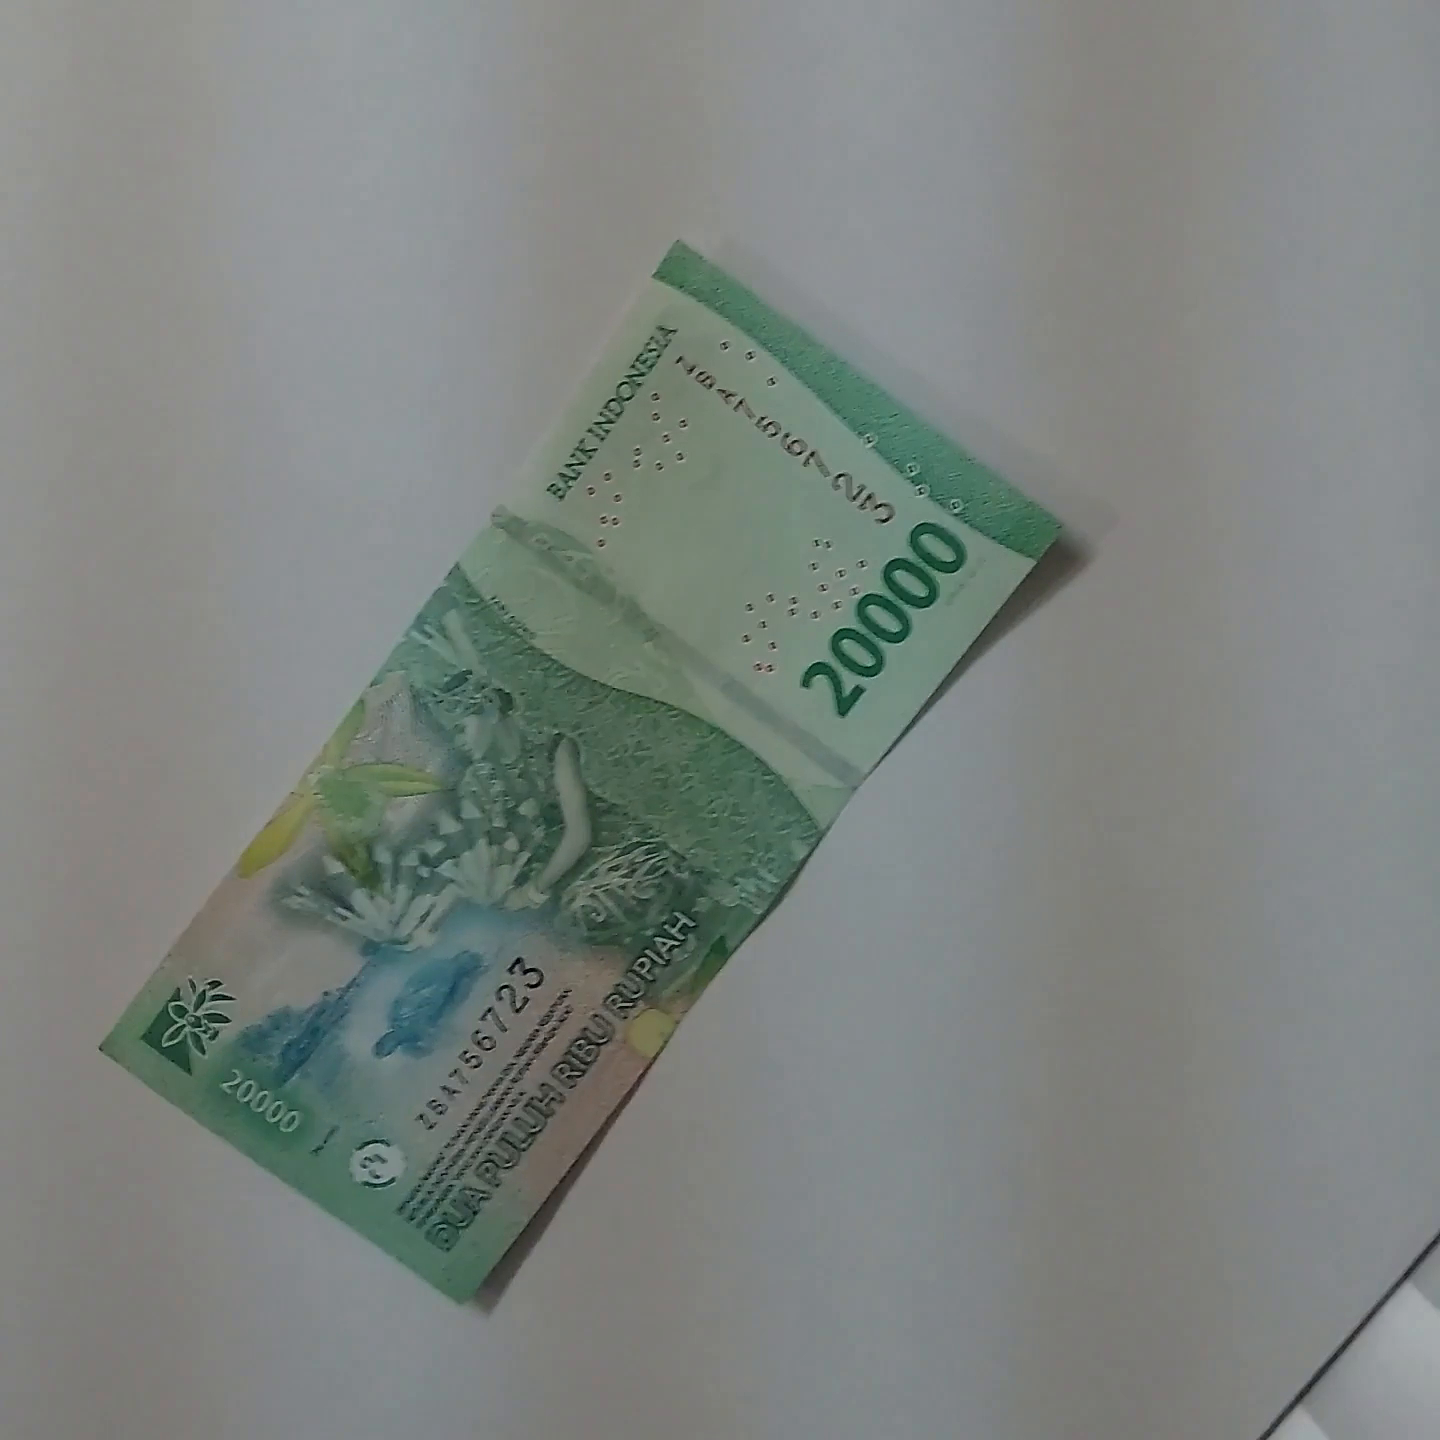20k: (770, 215, 1308, 1307)
